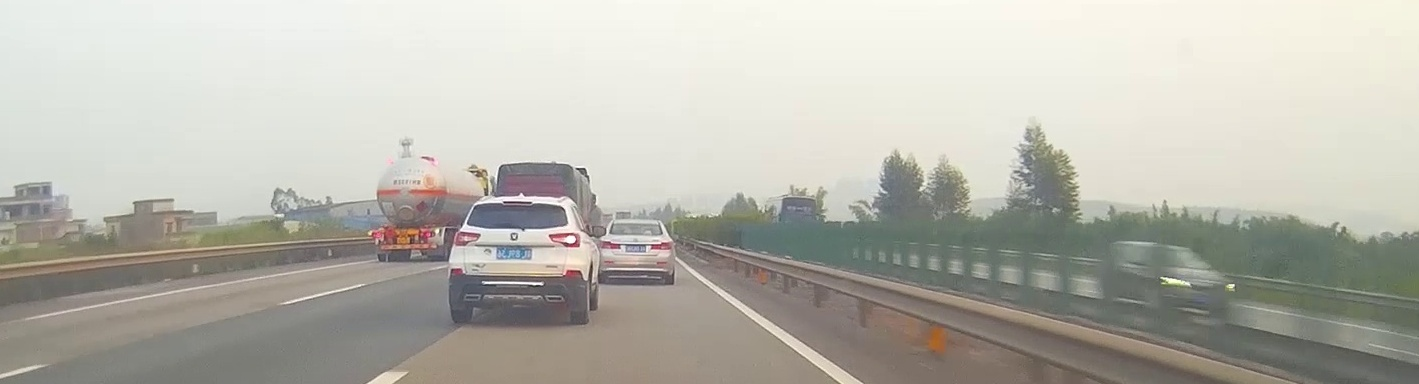L_light: (453, 232, 481, 245), (600, 240, 620, 250), (373, 232, 384, 237)
R_light: (548, 232, 580, 247), (650, 241, 673, 250), (422, 232, 436, 237)
T_light: (503, 200, 533, 206), (630, 222, 643, 227), (399, 229, 408, 233)
day-brake: (368, 227, 445, 262)
day-no: (599, 218, 675, 284)
day-right: (448, 196, 588, 324)
